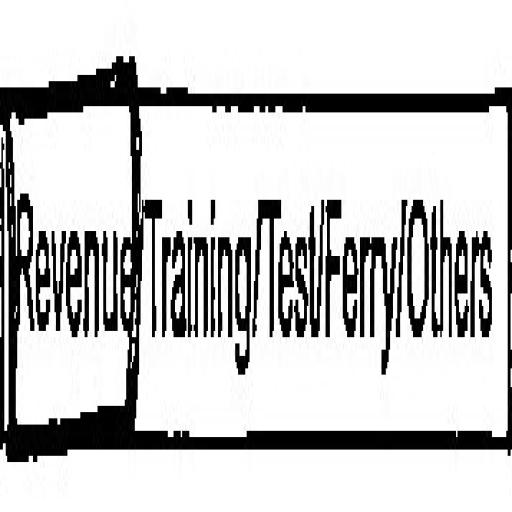check: (0, 2, 139, 512)
